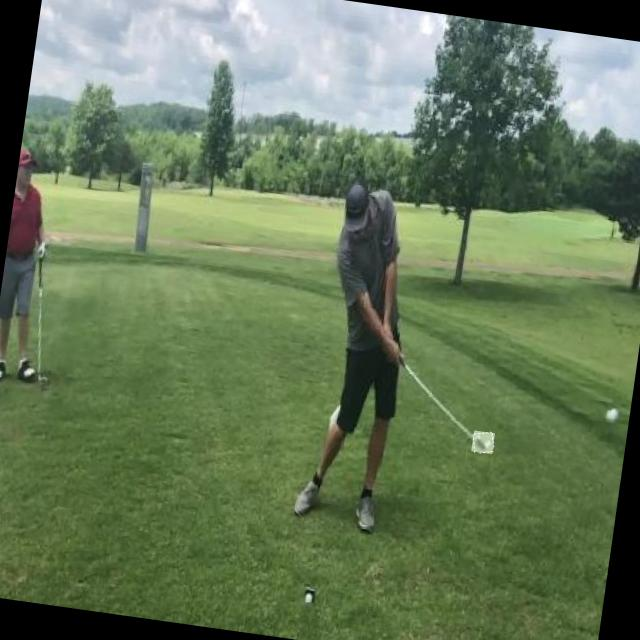club head: (471, 430, 495, 454)
